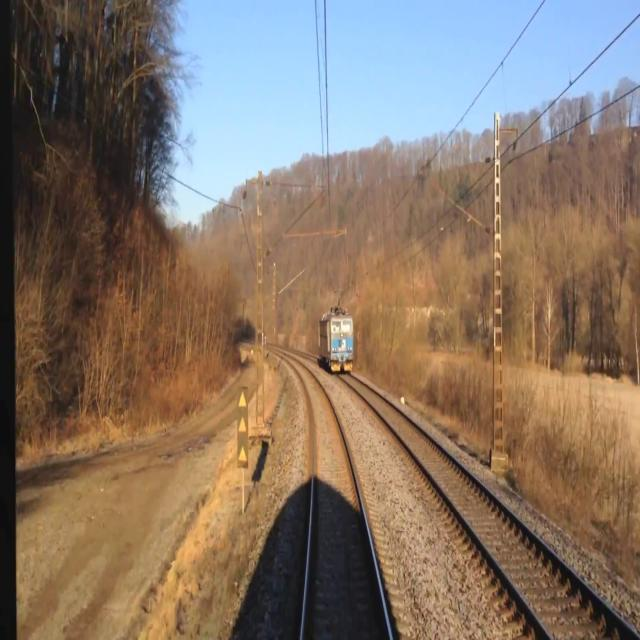rail-track: (343, 374, 634, 639), (292, 360, 388, 639)
